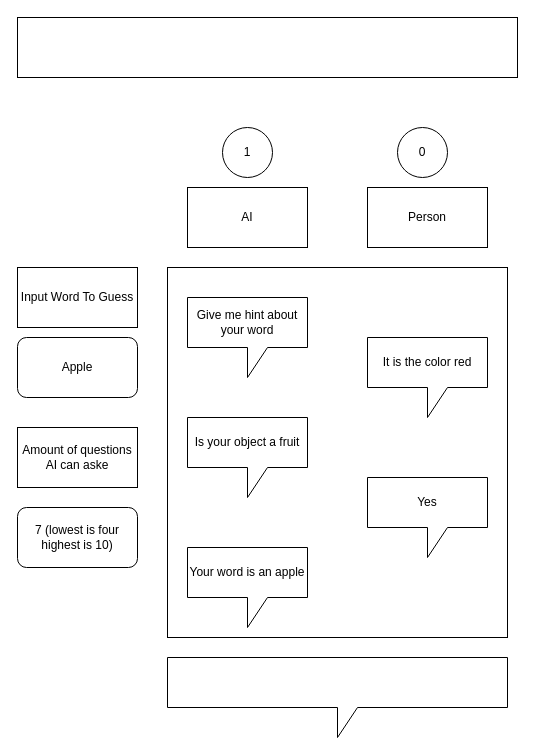
This 535x755 diagram has some shape labels left out. The shapes that lost their labels are listed below. From the top down, each one's centre as x and y in pixels, then its label:
At (x=267, y=47): "AI word guessing game".
At (x=337, y=697): "input response here".
